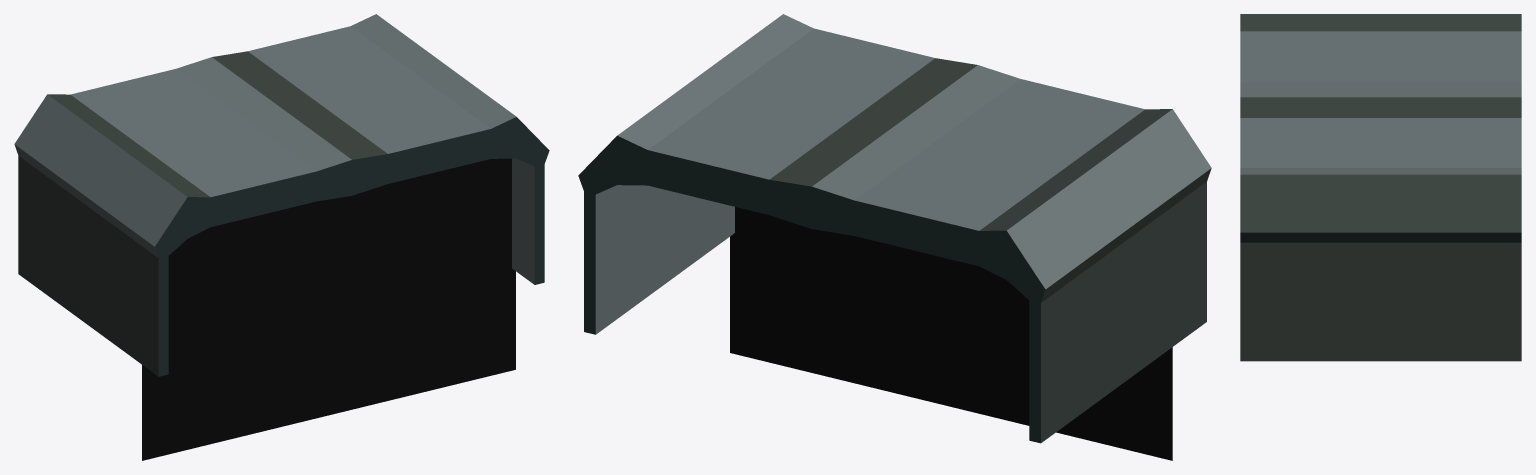
The model's file is slicerv3.fbx.
3 views of the same model, side by side, from view 1: azimuth 30°, elevation 25°; view 2: azimuth 150°, elevation 25°; view 3: azimuth 270°, elevation 25° (orthographic). The views are drawn at different scales.
Parts seen in each view (by area): view 1: Cube; view 2: Cube; view 3: Cube.
Boxes of the visible parts, x1,y1,x2,y2 form: Cube: (14,14,549,460); Cube: (578,14,1211,460); Cube: (1240,14,1521,361).
Size of the model in its own units: 325 by 216 by 200.
Materials: 1 (1 with a texture image).
